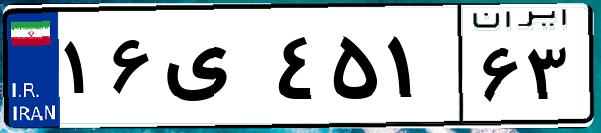1: (385, 28, 445, 110), (57, 26, 110, 100)
3: (525, 38, 570, 115)
4: (270, 28, 330, 110)
5: (330, 28, 385, 110)
6: (475, 38, 525, 113), (110, 28, 158, 98)
ی: (158, 20, 270, 120)
